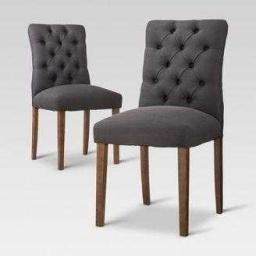Chair: (94, 19, 227, 237), (28, 24, 124, 173)
